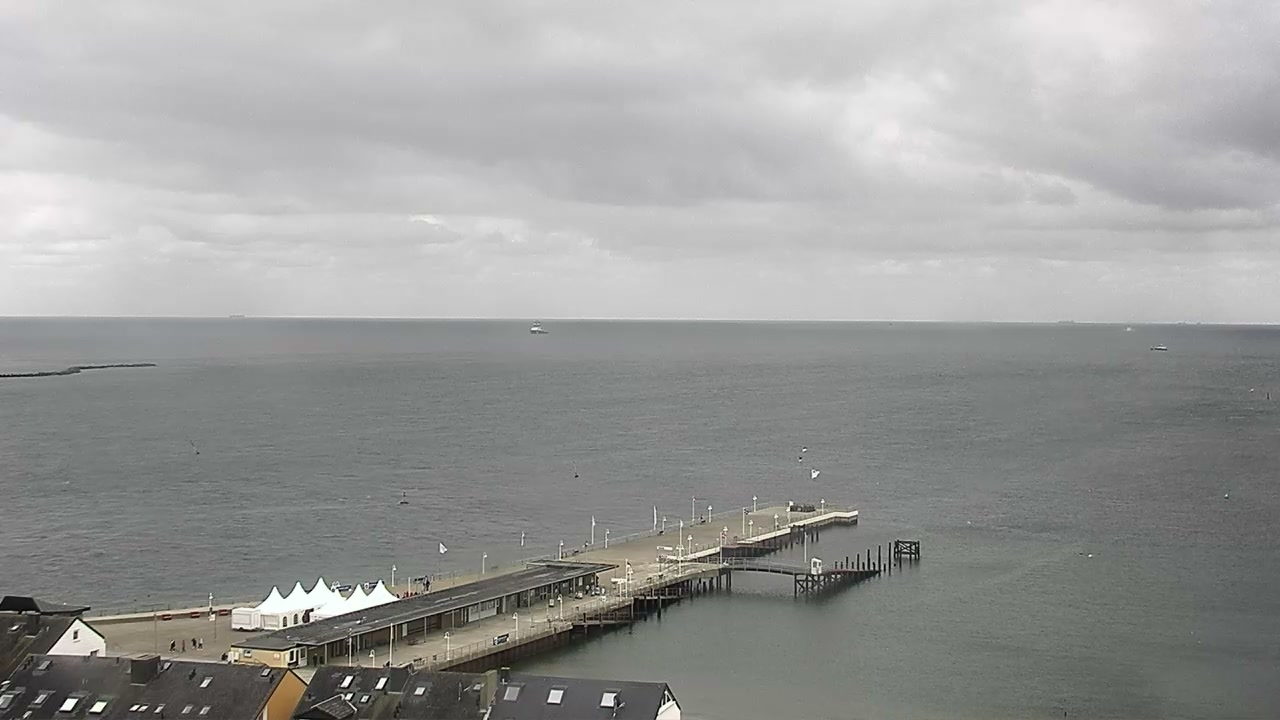human: (168, 638, 177, 653), (180, 638, 188, 654), (196, 636, 204, 651), (422, 574, 429, 591), (191, 635, 198, 650), (312, 652, 318, 669), (584, 582, 591, 596), (590, 581, 596, 597), (425, 575, 430, 591)
sea: (529, 317, 550, 336), (1150, 343, 1168, 351), (227, 312, 245, 318), (1056, 318, 1074, 323), (1124, 325, 1133, 332), (1172, 321, 1184, 325)
